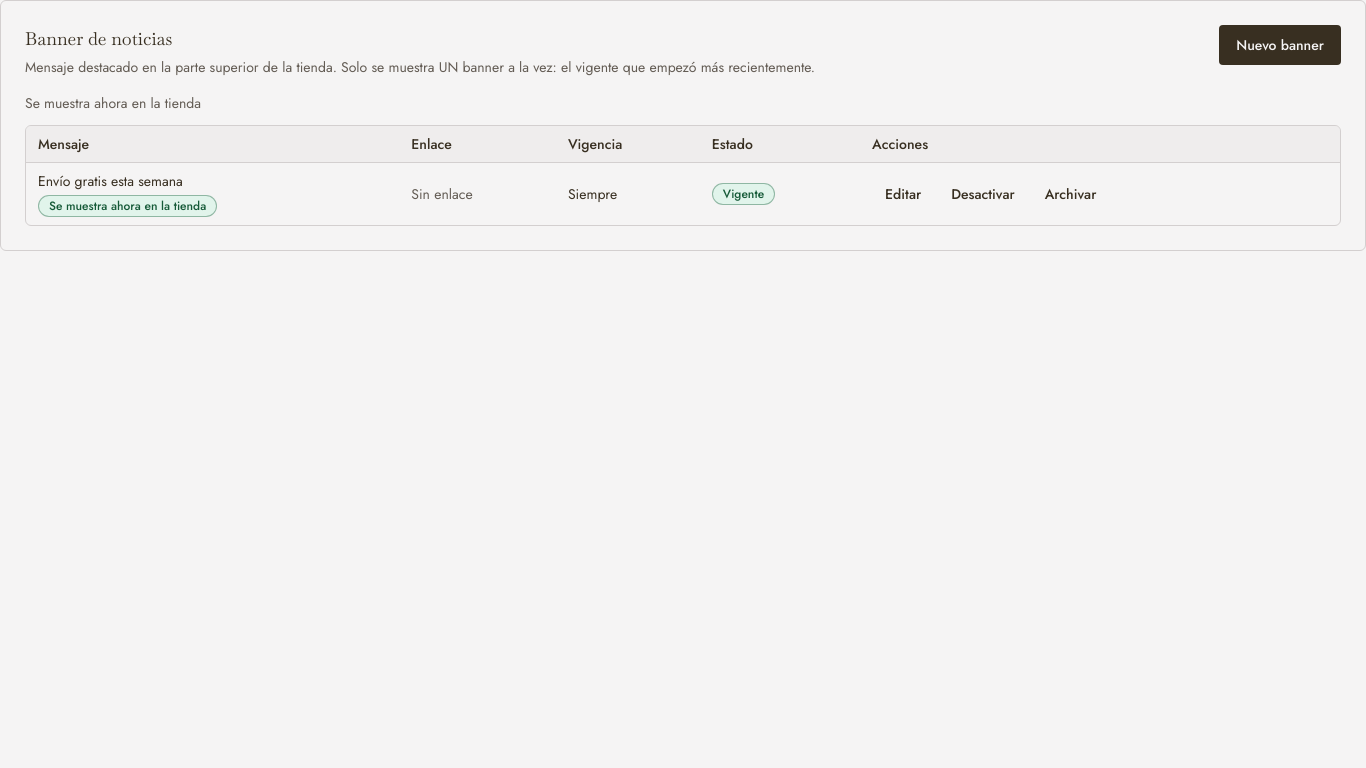
Test: BannersSection: crear y editar › crea un banner: manda el mensaje recortado y NULL en lo que quedó vacío; refresca la lista y avisa
The width and height of the screenshot is (1366, 768).
Click the button "Nuevo banner" at (1280, 45), box [1219,25,1341,65]
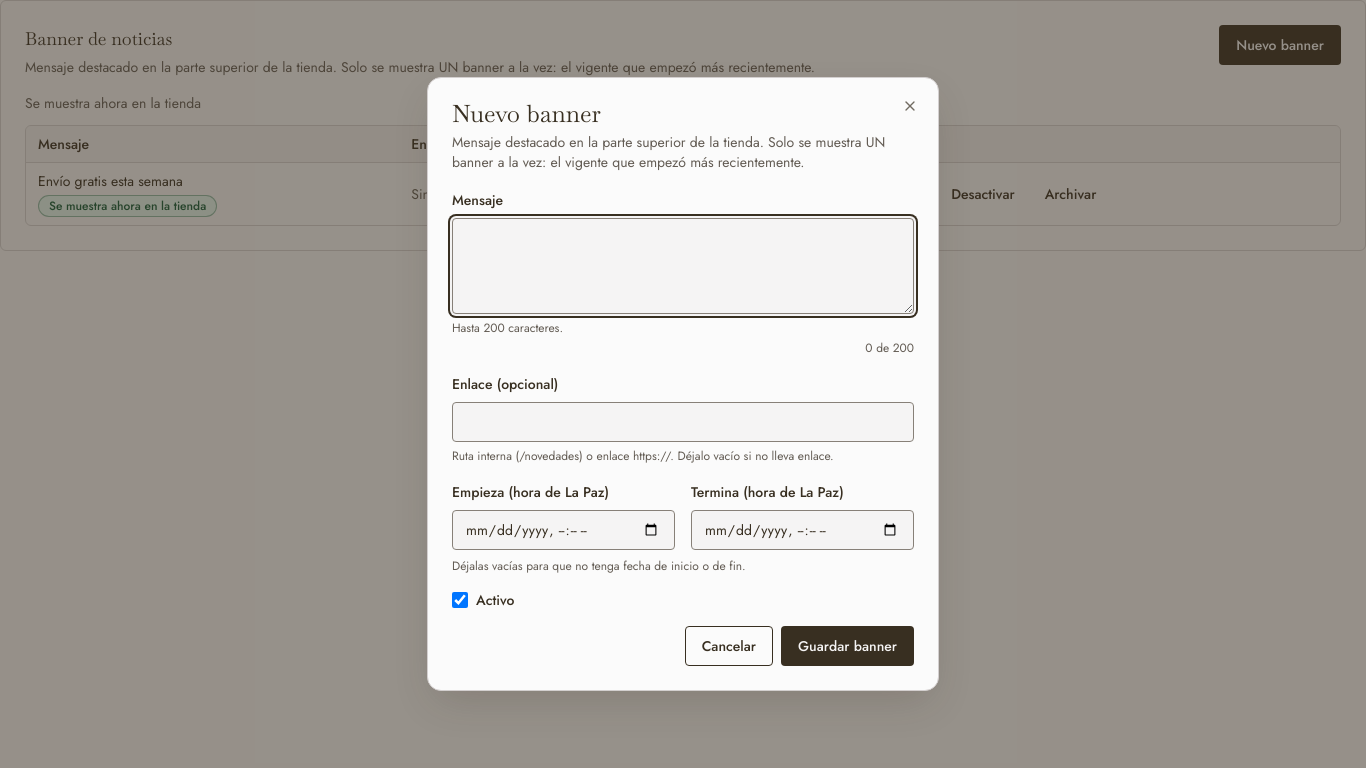
Type "  ¡Nuevos ingresos!  " into the text box labelled "Mensaje" at (683, 266), box [452,218,914,314]
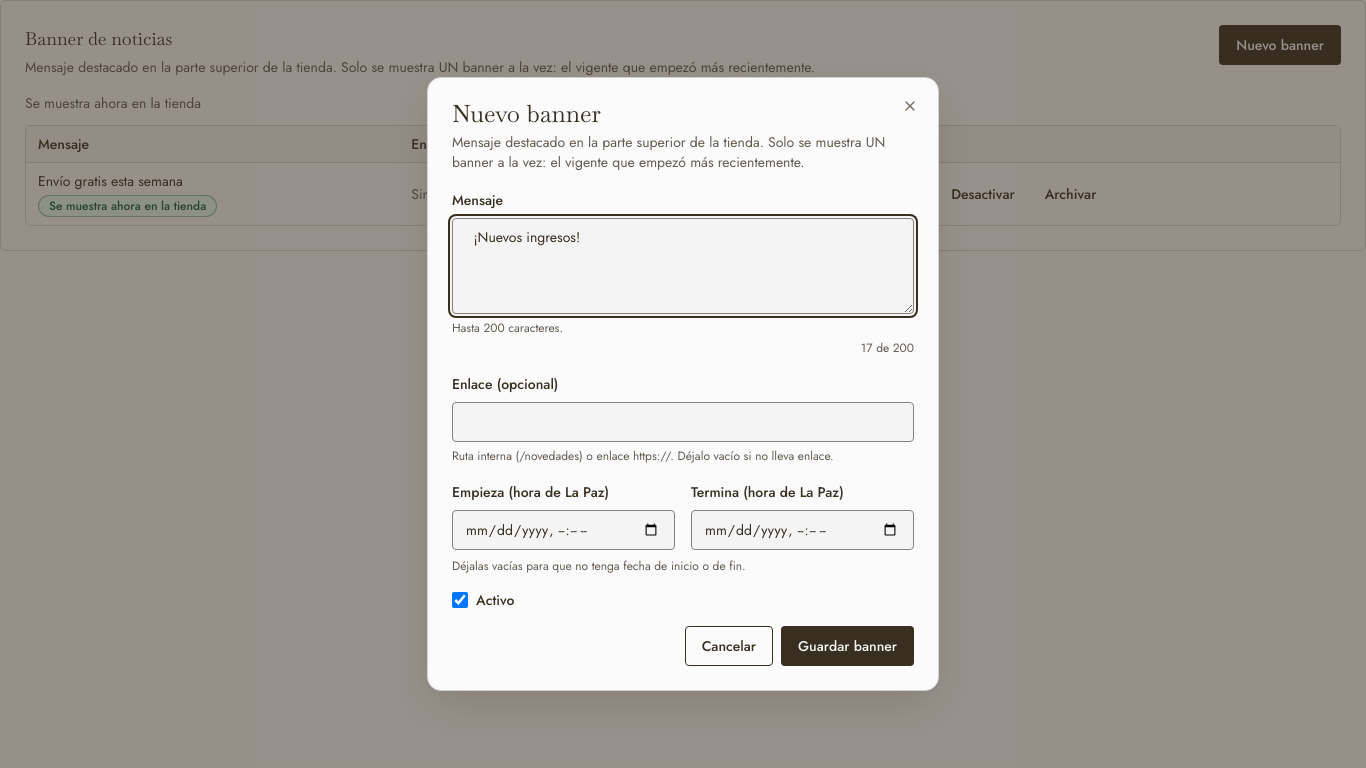
Click the button "Guardar banner" at (848, 646), box [781,626,914,666]
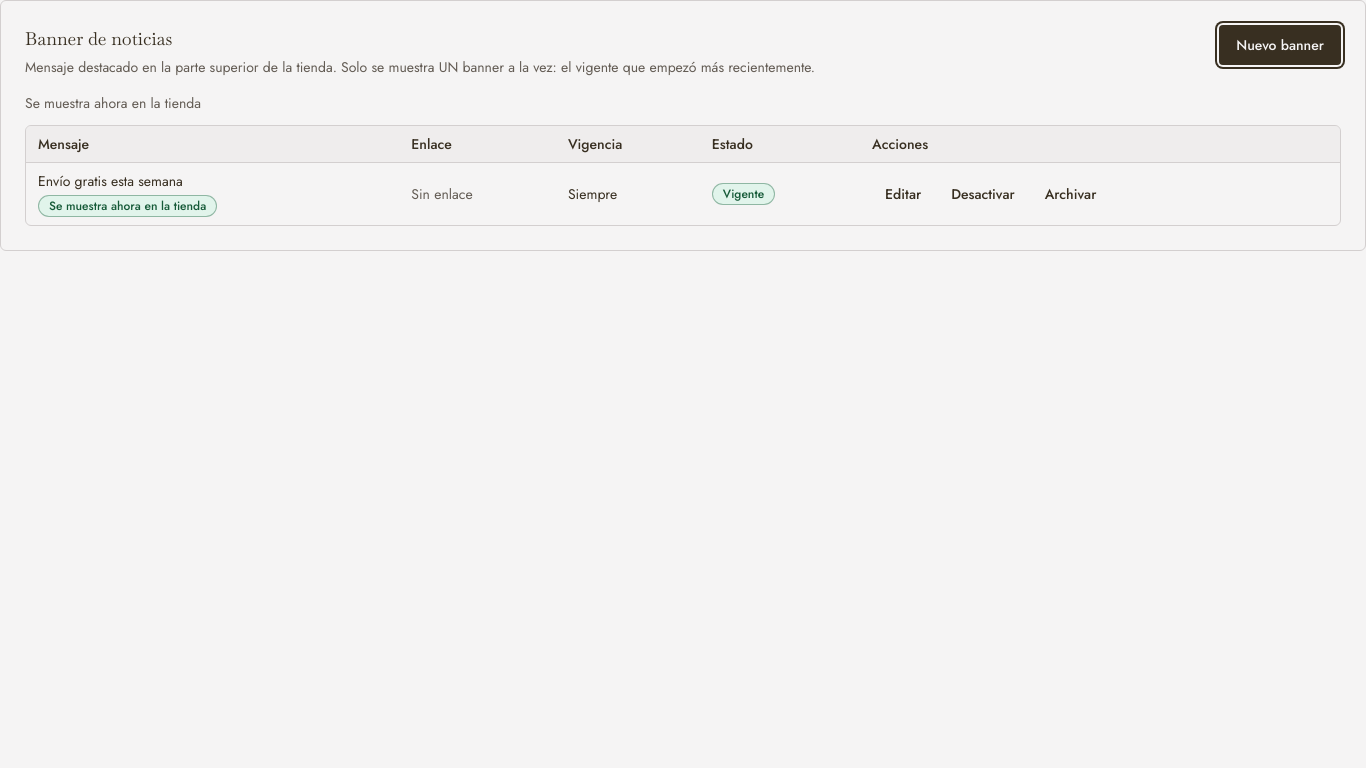
Expected: the dialog is gone
